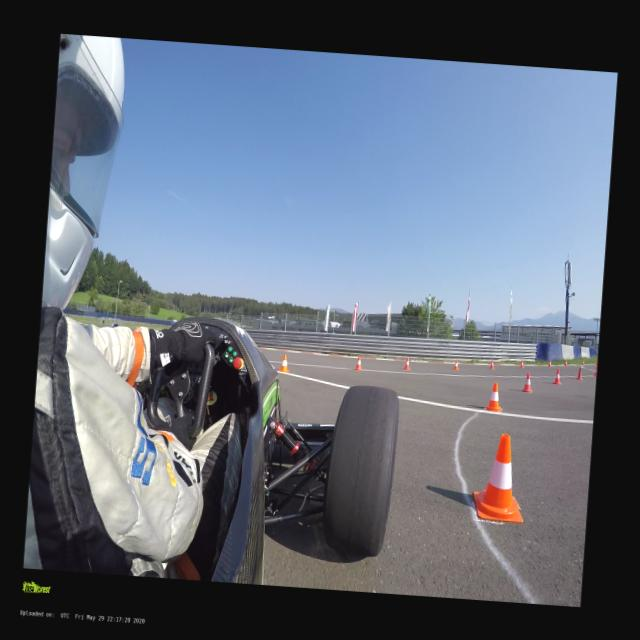orange_cone: (471, 432, 529, 522), (483, 381, 504, 412), (522, 372, 532, 392), (280, 354, 289, 371), (553, 368, 561, 384), (354, 356, 362, 370), (403, 357, 409, 369), (576, 367, 582, 379), (453, 360, 458, 370), (490, 359, 494, 368), (520, 360, 523, 367), (594, 366, 596, 376), (564, 360, 567, 366), (548, 360, 550, 366), (582, 360, 584, 364), (596, 359, 597, 365)
